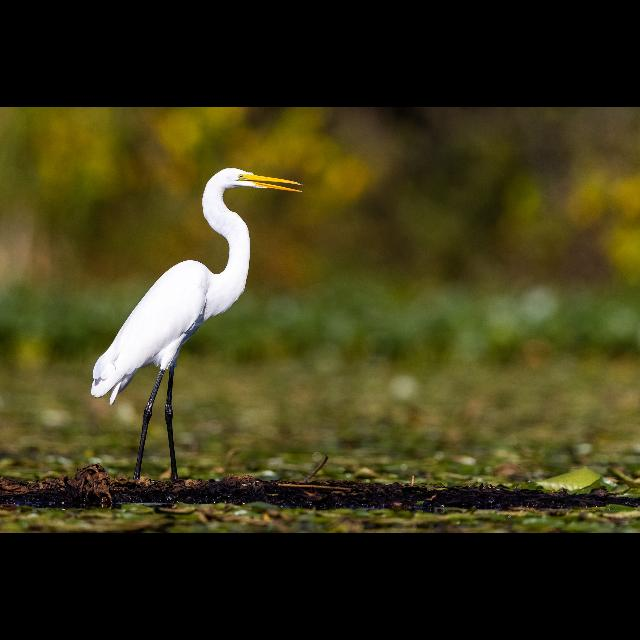egret: (78, 163, 304, 489)
